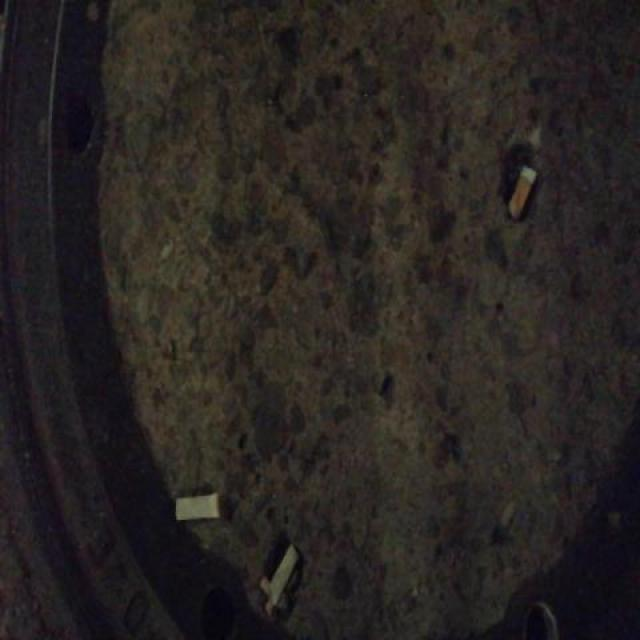non-organic waste: (266, 540, 302, 616), (502, 160, 541, 229), (168, 489, 224, 523)
